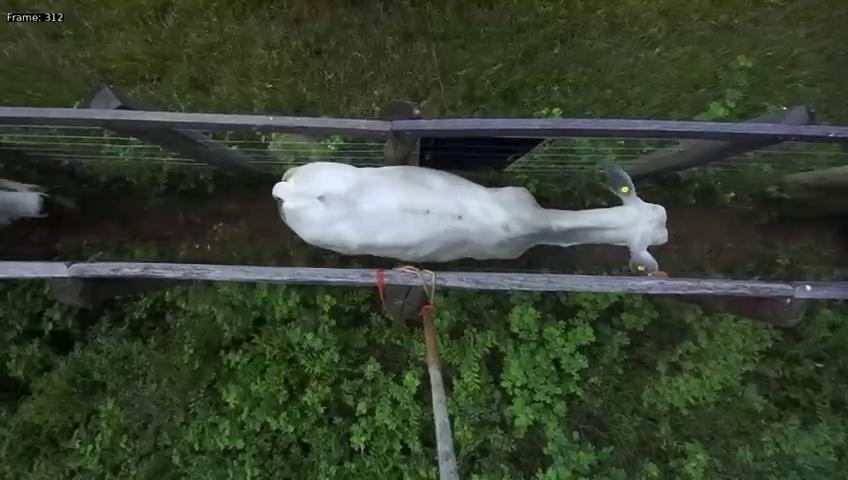cattle: (266, 161, 671, 275)
